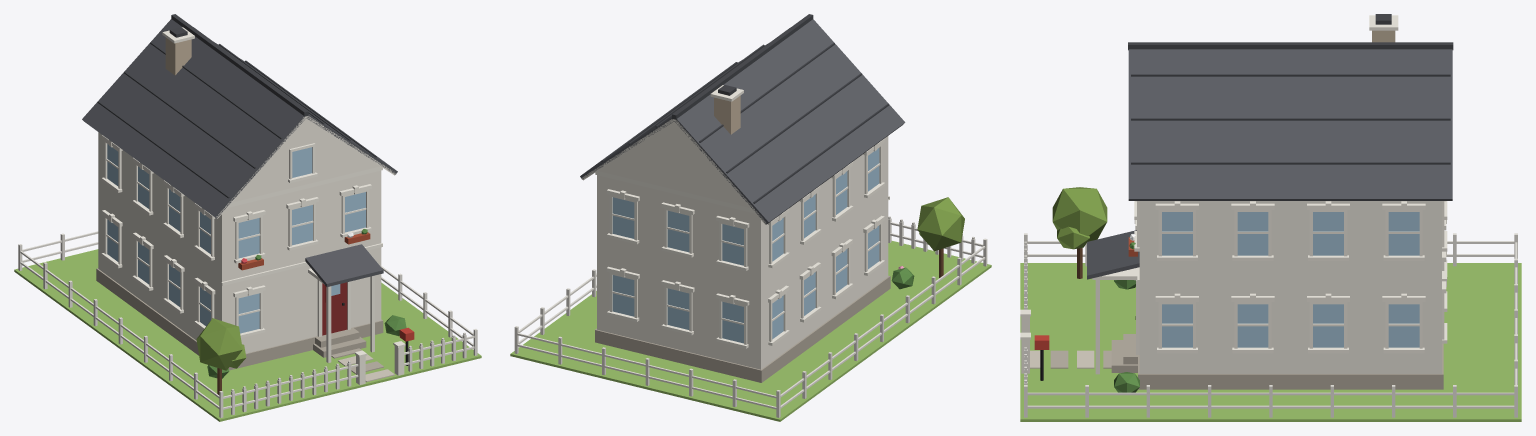
File: MustakilEv_avrupa_2_1_Hafif.fbx
The picture shows the model from 3 angles, left to right: view 1: azimuth 30°, elevation 25°; view 2: azimuth 150°, elevation 25°; view 3: azimuth 270°, elevation 25°; orthographic projection. The views are drawn at different scales.
Parts seen in each view (by area): view 1: MustakilEv_avrupa_2_1_Hafif; view 2: MustakilEv_avrupa_2_1_Hafif; view 3: MustakilEv_avrupa_2_1_Hafif.
Part boxes in pixels (x1,y1,x2,y2): MustakilEv_avrupa_2_1_Hafif: (14, 14, 481, 421); MustakilEv_avrupa_2_1_Hafif: (510, 14, 991, 421); MustakilEv_avrupa_2_1_Hafif: (1020, 14, 1521, 421).
Size of the model in its own units: 10.18 by 9.5 by 13.81.
